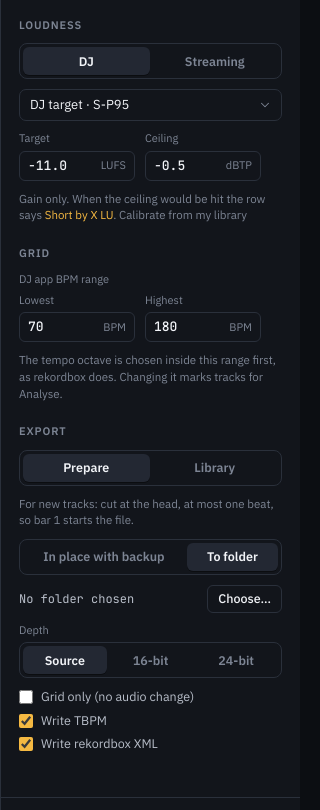
Scenario: Rail › Export section › asks for a folder for To folder, and shows the one chosen
Expected: the text "No folder chosen" is shown, [19,591,134,607]
Click the button "Choose…": (245, 599) [207,585,282,613]
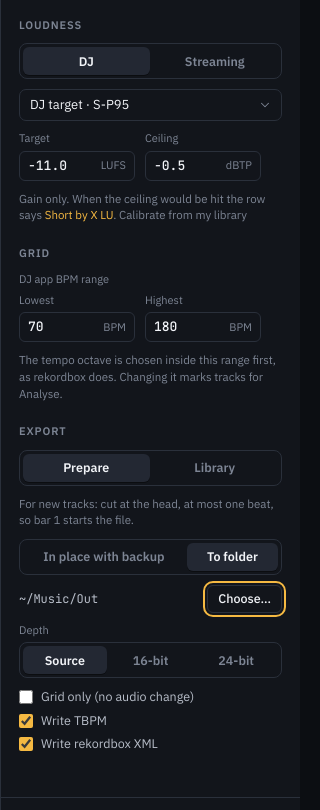
Result: the text "~/Music/Out" is shown at [19,591,98,607]
